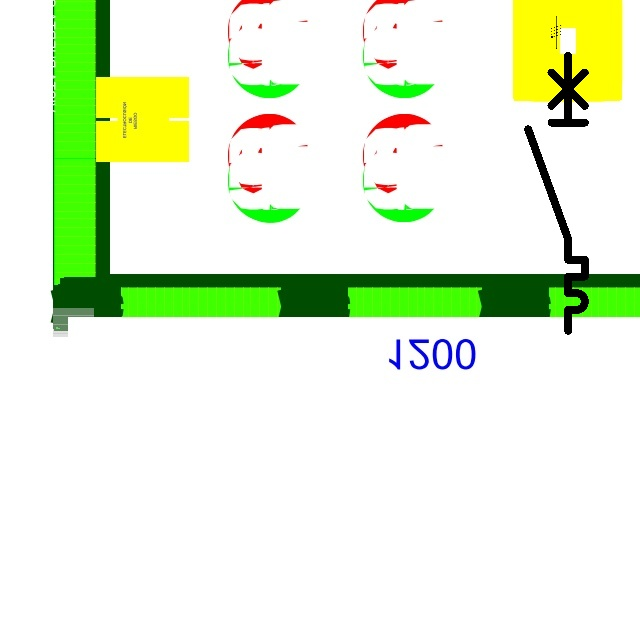interruptor_termomagnetico: (521, 48, 592, 337)
